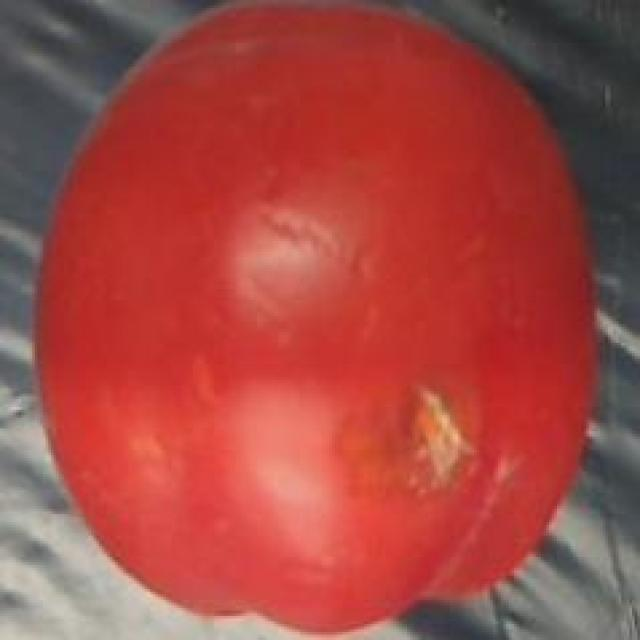overripe tomato: (26, 0, 618, 640)
